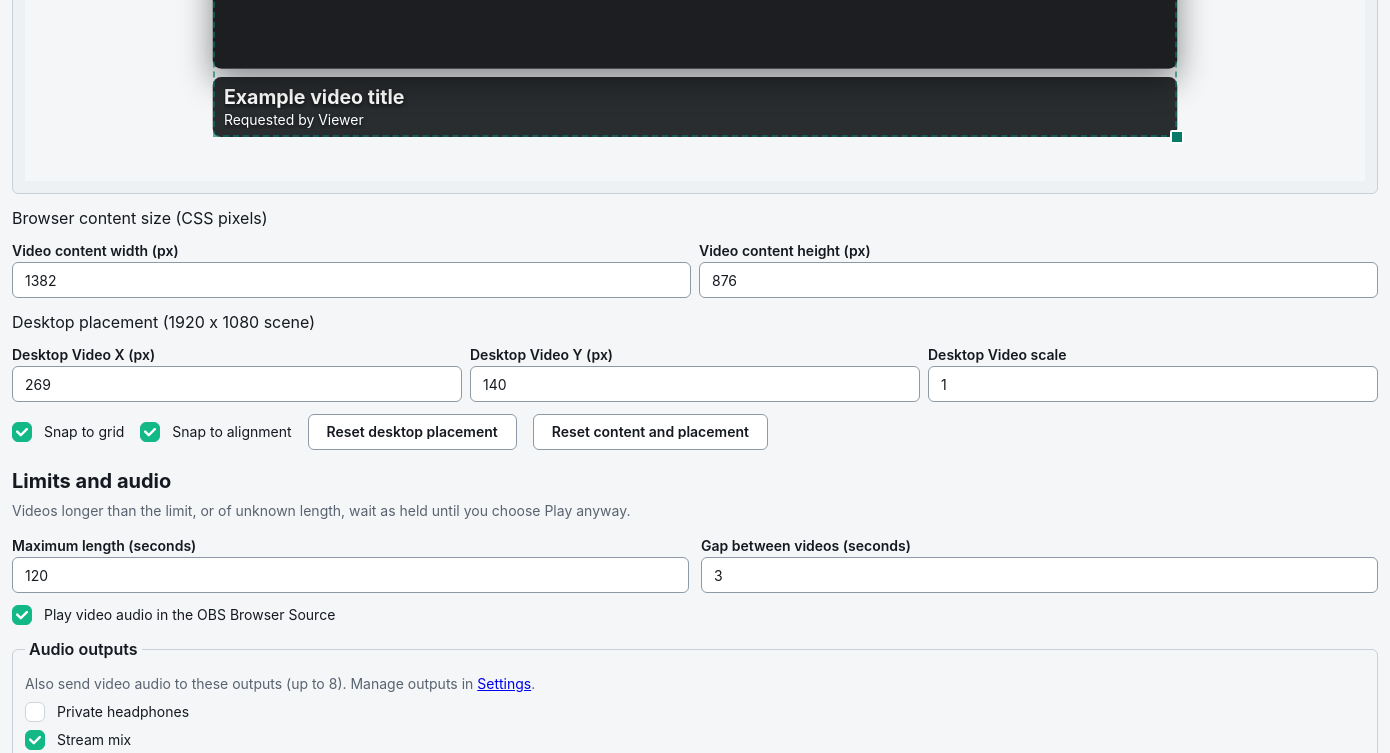
Test: VideosPage › refuses a keyboard submit while a placement draft is invalid and focuses that field
(page scrolled)
Replace the text in the number field labelled "Desktop Video X (px)" with "-5" at (237, 384), box [12,366,462,402]
(page scrolled)
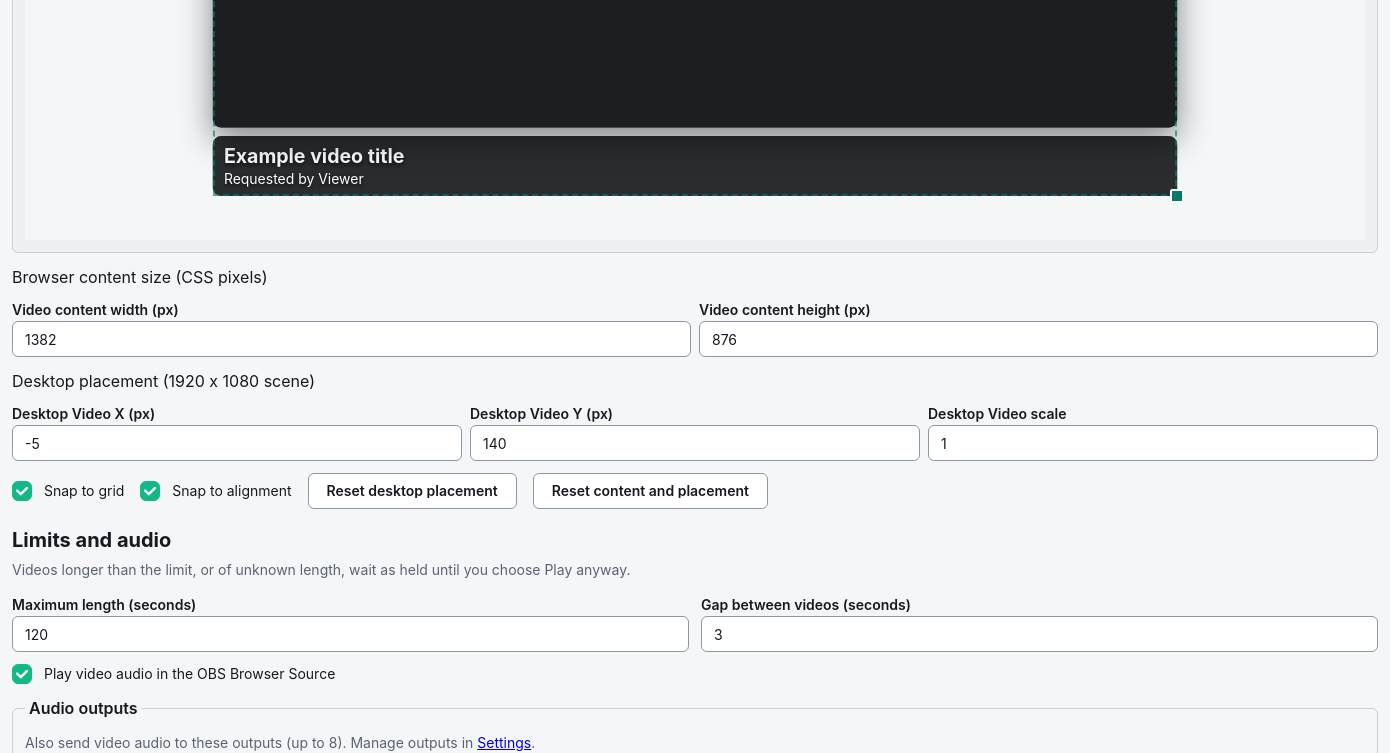
Submit the form named "Save Videos settings"
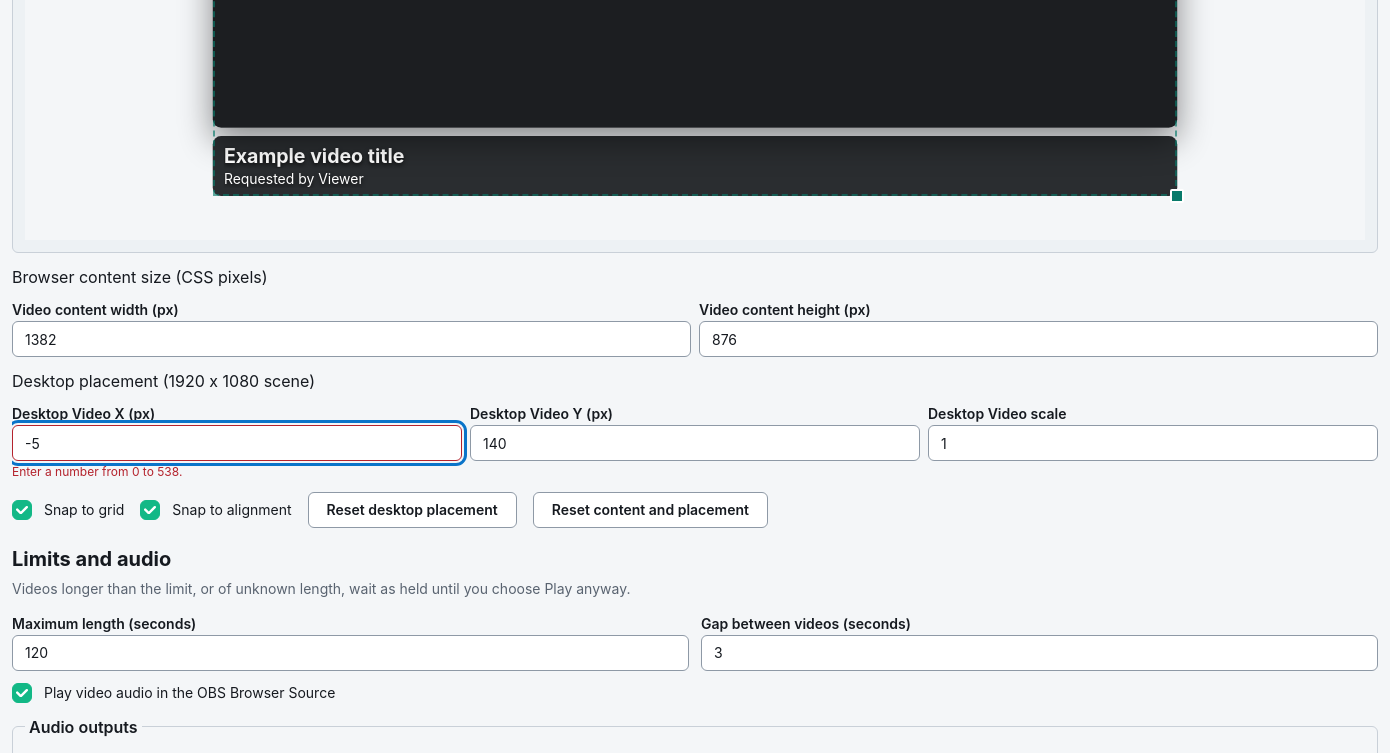
Result: the text "Enter a number from 0 to 538." is shown at [12,464,182,479]
